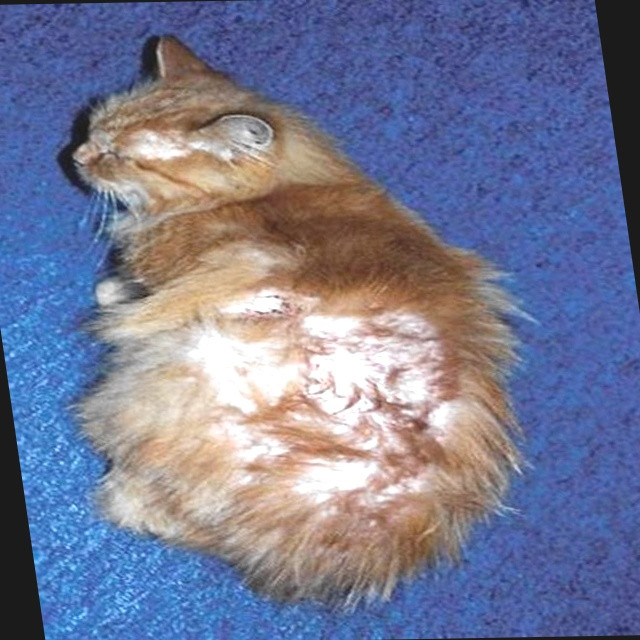hairloss: (202, 322, 463, 493)
